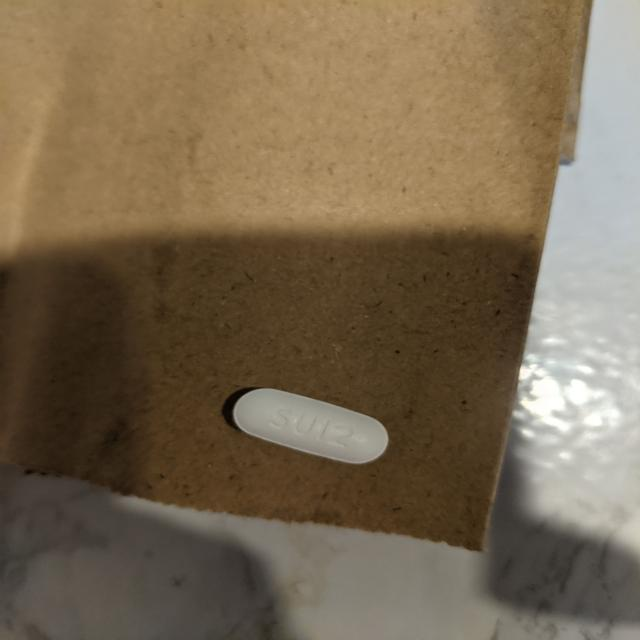non-organic waste: (232, 387, 391, 465)
